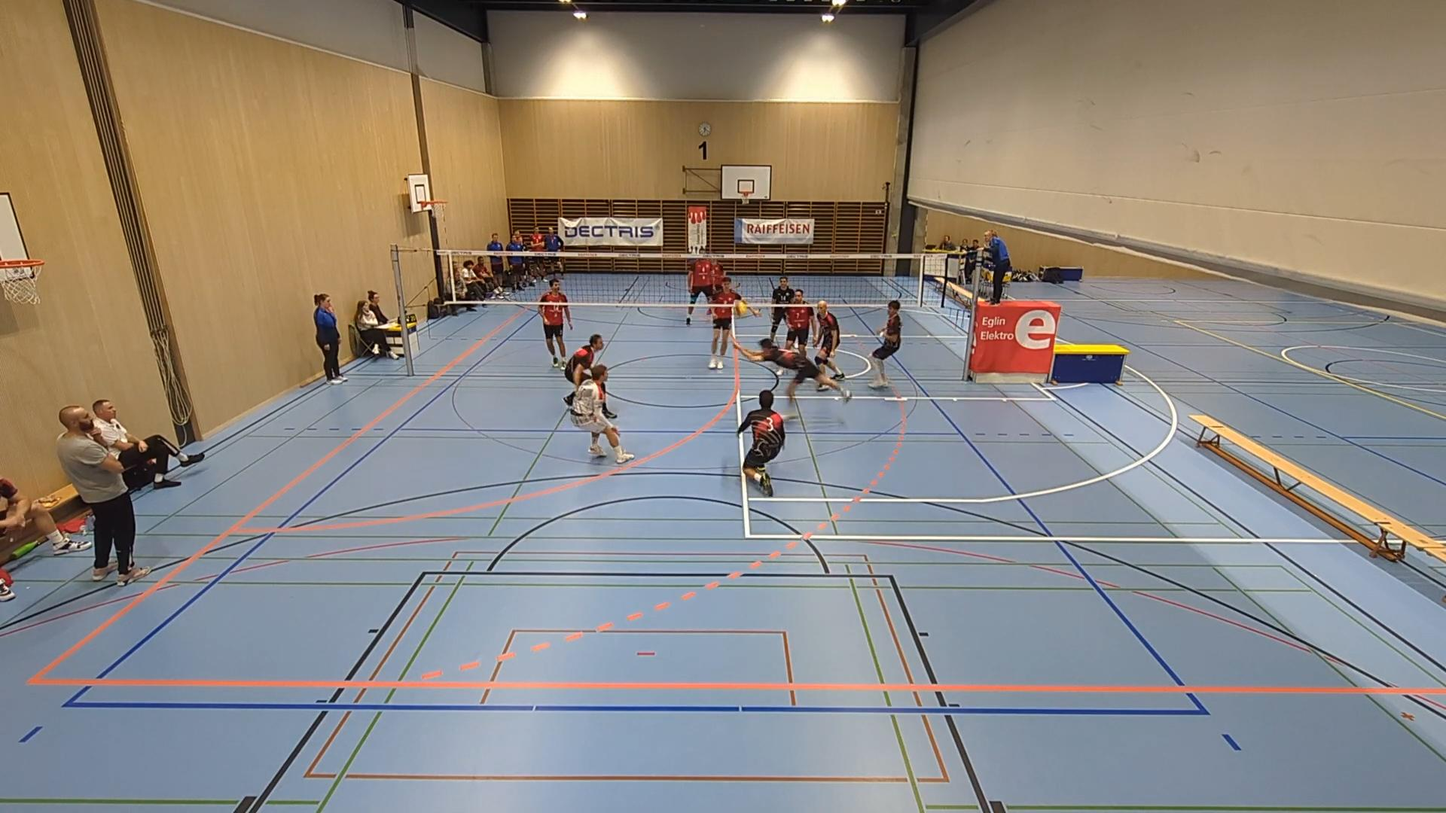Dig: (731, 331, 857, 406)
Player: (733, 337, 850, 400), (570, 364, 633, 464), (737, 390, 786, 496), (538, 279, 572, 367), (563, 333, 602, 407), (869, 300, 901, 388), (814, 300, 844, 379), (685, 258, 720, 324), (784, 290, 813, 352), (770, 276, 794, 340), (749, 309, 756, 315)
ball: (731, 303, 752, 313)
